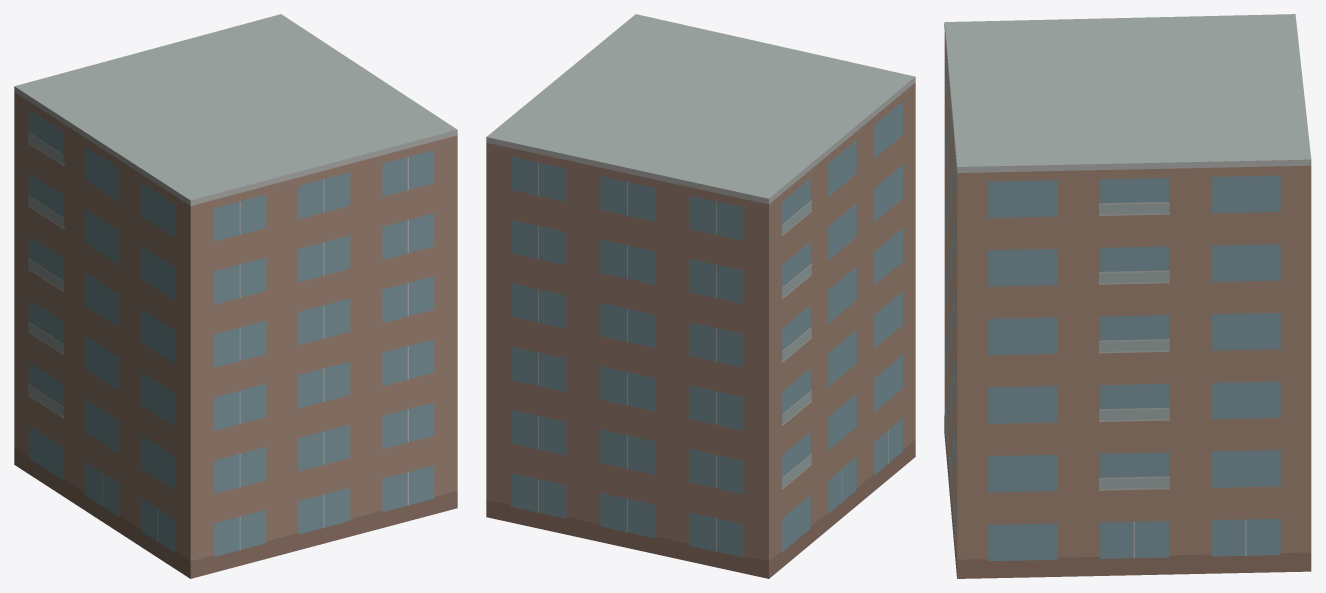
Rendered from survey-upis-32842891.glb.
3 renders of one model, left to right at view 1: azimuth 30°, elevation 25°; view 2: azimuth 150°, elevation 25°; view 3: azimuth 270°, elevation 25°, orthographic. The views are drawn at different scales.
Parts seen in each view (by area): view 1: survey-upis-32842891.tmp; view 2: survey-upis-32842891.tmp; view 3: survey-upis-32842891.tmp.
Boxes of the visible parts, x1,y1,x2,y2 form: survey-upis-32842891.tmp: [14, 14, 457, 578]; survey-upis-32842891.tmp: [486, 14, 915, 578]; survey-upis-32842891.tmp: [944, 14, 1311, 578].
Bounding box in the file's own units: 13.19 × 16.55 × 13.37.
